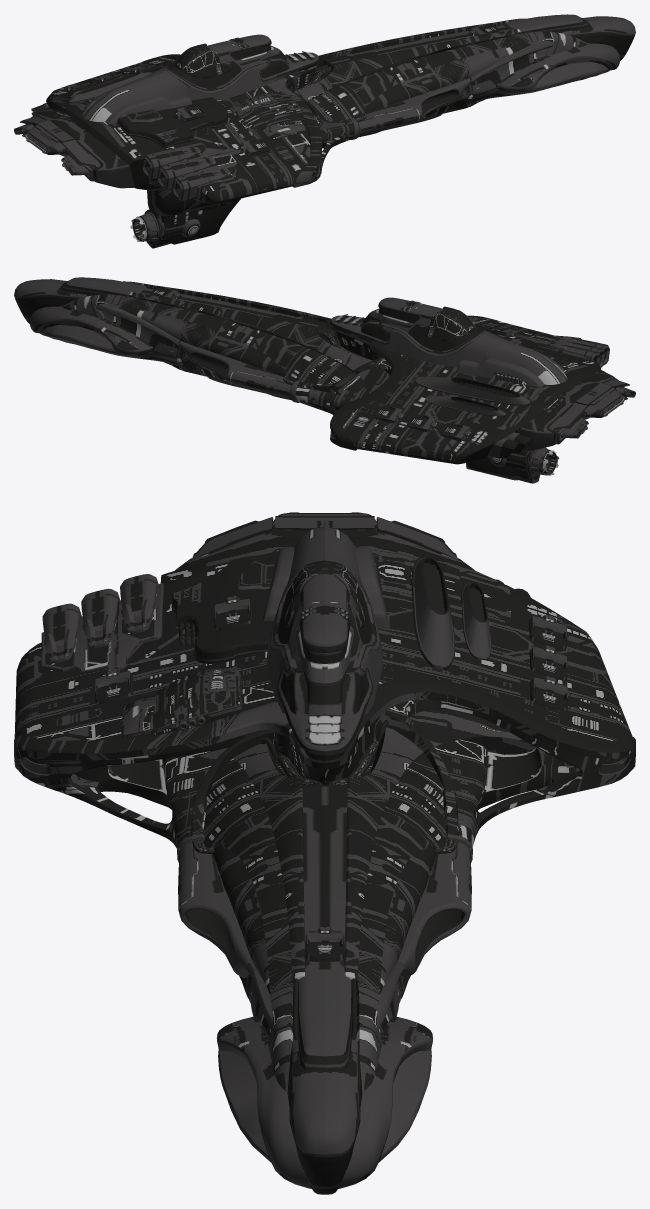
Rendered from thorax.glb.
3 renders of one model, top to bottom at view 1: azimuth 30°, elevation 25°; view 2: azimuth 150°, elevation 25°; view 3: azimuth 270°, elevation 25°, orthographic. The views are drawn at different scales.
Parts seen in each view (by area): view 1: Thorax; view 2: Thorax; view 3: Thorax.
Boxes of the visible parts, <box> form: Thorax: <box>14,14,635,248</box>; Thorax: <box>14,277,635,483</box>; Thorax: <box>14,512,635,1194</box>.
Bounding box in the file's own units: 307 × 83.92 × 140.
Materials: 1 (1 with a texture image).
